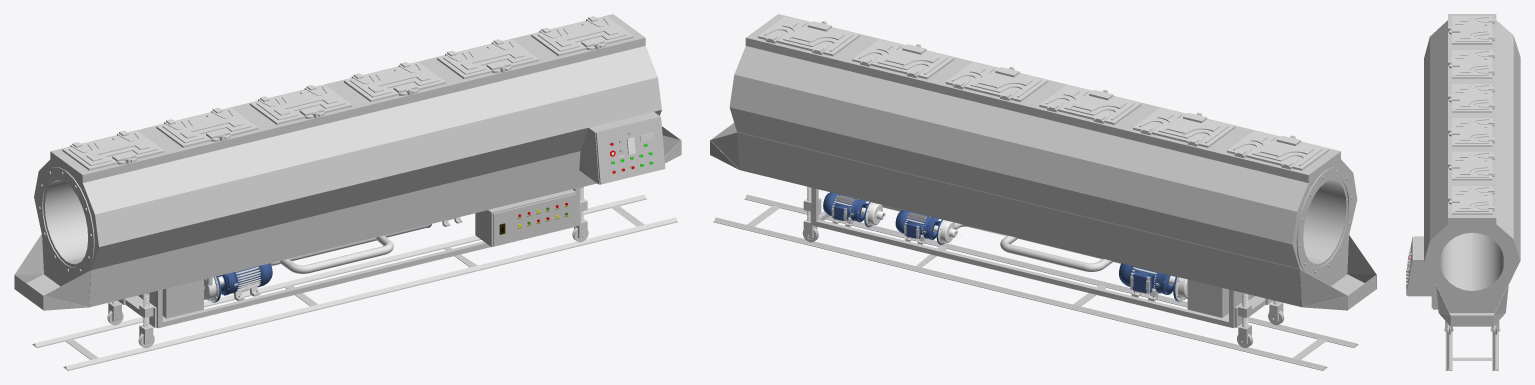
The picture shows the model from 3 angles, left to right: view 1: azimuth 30°, elevation 25°; view 2: azimuth 150°, elevation 25°; view 3: azimuth 270°, elevation 25°; orthographic projection. The views are drawn at different scales.
Visible parts, largest first — view 1: camara de vacio_001, Layer0_001, compuerta_007, compuerta_009, compuerta_011, compuerta_001, compuerta_003, compuerta_005, Componente#2_001, Bomba Centrífuga_007; view 2: camara de vacio_001, Layer0_001, compuerta_009, compuerta_007, compuerta_001, compuerta_011, compuerta_003, compuerta_005, Bomba Centrífuga#1_001, Componente#2_001, Bomba Centrífuga_004, Bomba Centrífuga_001; view 3: camara de vacio_001, Layer0_001, compuerta_007, compuerta_011, compuerta_001, compuerta_003, compuerta_005, compuerta_009.
Boxes of the visible parts, x1,y1,x2,y2 form: camara de vacio_001: (14, 14, 681, 328); Layer0_001: (32, 112, 677, 370); compuerta_007: (437, 39, 538, 79); compuerta_009: (531, 16, 633, 56); compuerta_011: (62, 130, 164, 170); compuerta_001: (156, 107, 258, 147); compuerta_003: (344, 62, 445, 101); compuerta_005: (250, 85, 351, 124); Componente#2_001: (270, 224, 431, 273); Bomba Centrífuga_007: (204, 263, 272, 302); camara de vacio_001: (710, 14, 1376, 344); Layer0_001: (713, 170, 1358, 370); compuerta_009: (758, 16, 859, 56); compuerta_007: (852, 39, 954, 79); compuerta_001: (1133, 108, 1235, 147); compuerta_011: (1227, 131, 1328, 170); compuerta_003: (945, 62, 1047, 101); compuerta_005: (1039, 85, 1141, 124); Bomba Centrífuga#1_001: (1119, 263, 1187, 301); Componente#2_001: (954, 222, 1120, 271); Bomba Centrífuga_004: (895, 210, 961, 244); Bomba Centrífuga_001: (823, 192, 886, 227); camara de vacio_001: (1424, 14, 1520, 326); Layer0_001: (1405, 236, 1498, 370); compuerta_007: (1448, 151, 1494, 180); compuerta_011: (1448, 16, 1494, 44); compuerta_001: (1448, 50, 1494, 78); compuerta_003: (1448, 118, 1494, 146); compuerta_005: (1448, 84, 1494, 112); compuerta_009: (1448, 186, 1494, 214).
Size of the model in its own units: 268 by 78.35 by 56.24.
